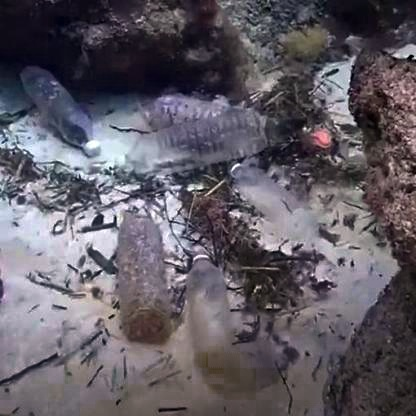pbottle: (171, 225, 253, 378), (101, 188, 176, 348), (29, 63, 124, 182), (237, 155, 332, 268), (136, 115, 304, 172)
